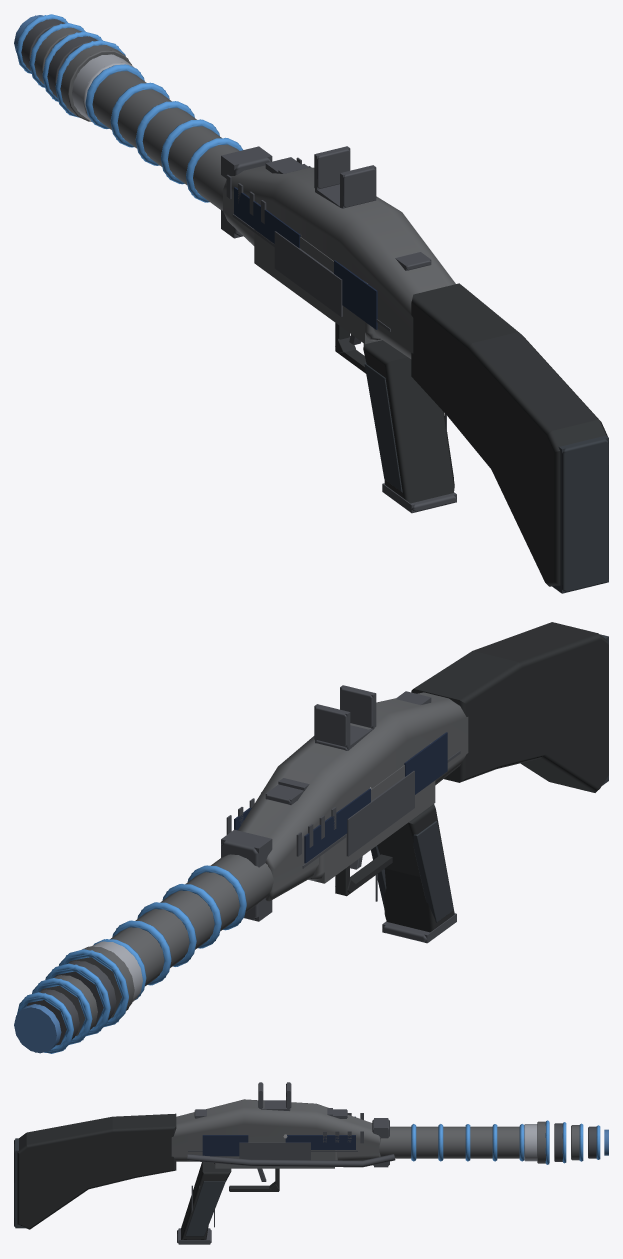
Rendered from e_ioncarb.glb.
The picture shows the model from 3 angles, top to bottom: view 1: azimuth 30°, elevation 25°; view 2: azimuth 150°, elevation 25°; view 3: azimuth 270°, elevation 25°; orthographic projection. The views are drawn at different scales.
Parts seen in each view (by area): view 1: L0, L1; view 2: L0, L1; view 3: L0, L1.
Part boxes in pixels (left/top/right/bottom): L0: left=14, top=14, right=608, bottom=592; L1: left=20, top=15, right=608, bottom=593; L0: left=14, top=622, right=608, bottom=1053; L1: left=15, top=634, right=608, bottom=1052; L0: left=14, top=1083, right=608, bottom=1243; L1: left=15, top=1082, right=608, bottom=1244.
Bounding box in the file's own units: 0.0654 × 0.2106 × 0.7468.
